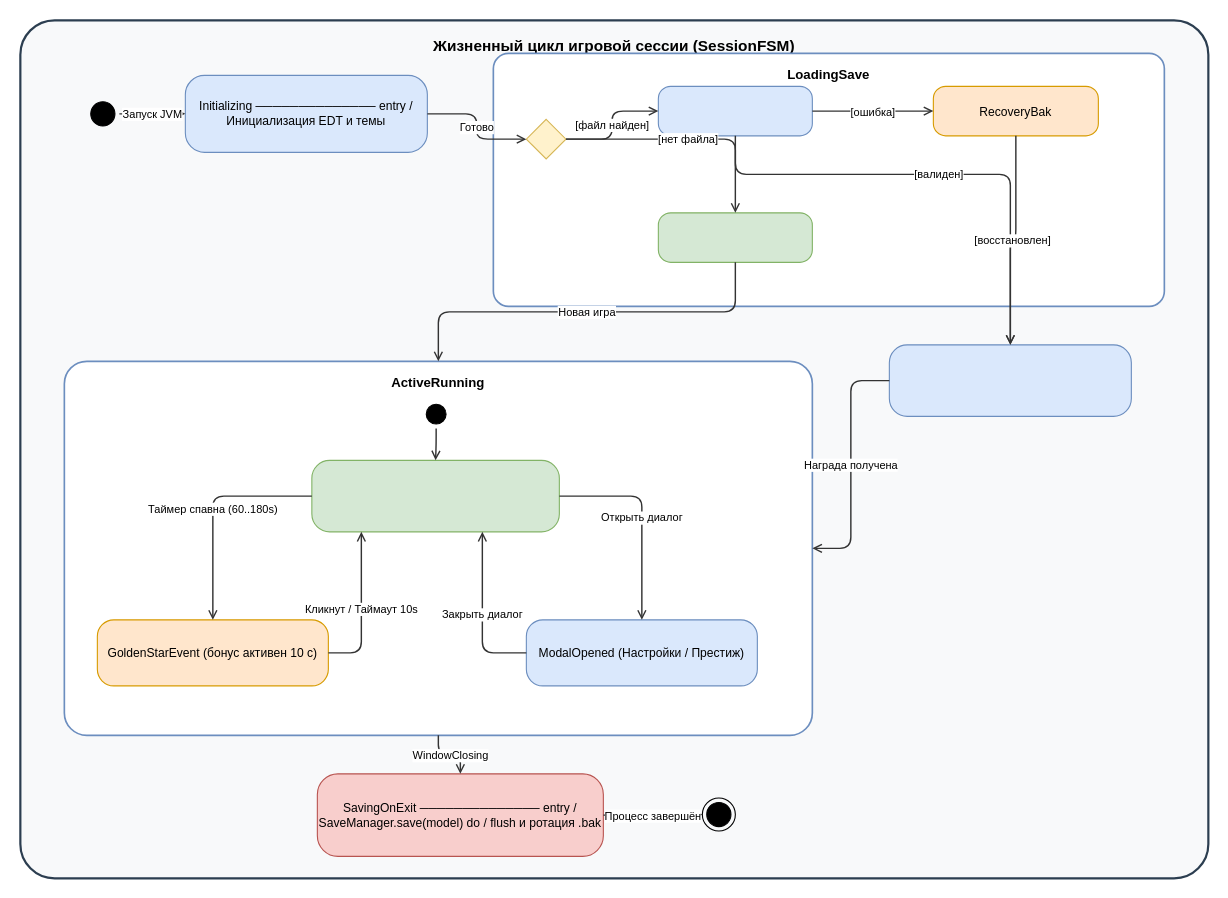
Some shapes in this 1228 by 898 pixel diagram are drawn without their labels. The shapes that lost their labels are listed below. From the top down, each one's box as (x1, y1, x2, y2) in pixels, then its label:
(657, 85, 812, 136): ParsingMain
(657, 212, 812, 262): FreshProfile
(888, 344, 1131, 416): CalculatingOffline ────────────── entry / calcOfflineDust()
(311, 459, 559, 532): IdleGameLoop ────────────── do / tick(100ms) & renderUI()
